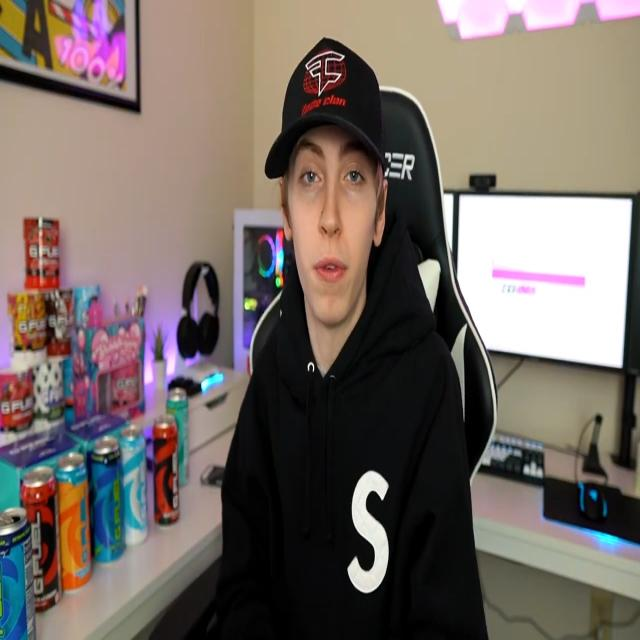can: (19, 462, 61, 612), (52, 449, 92, 592), (0, 500, 38, 640), (151, 407, 182, 536), (94, 429, 123, 566), (120, 424, 149, 550), (165, 382, 189, 491)
